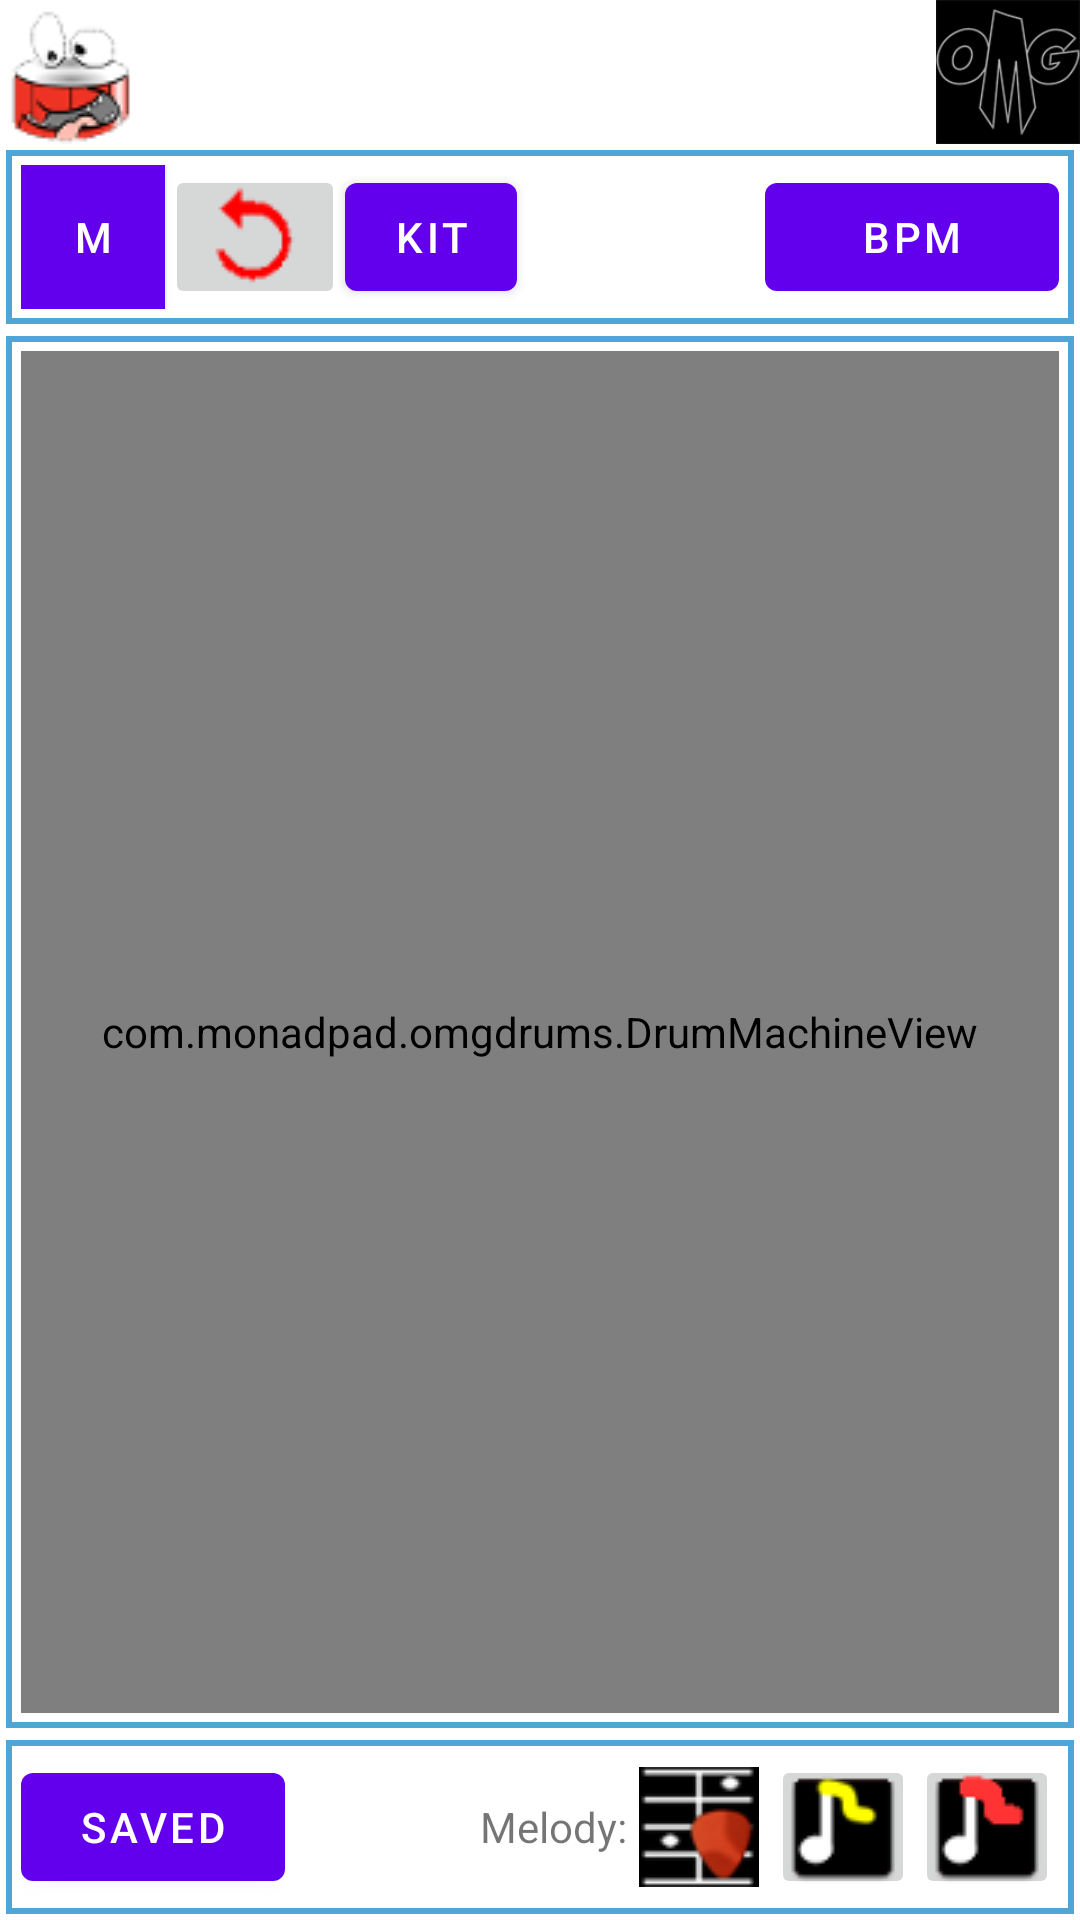

Locate icon controls on the screen. Image size 1080×1920, boxes as (x1, y1, x2, y2).
bitar: (639, 1767, 759, 1887)
rewind: (177, 183, 333, 291)
